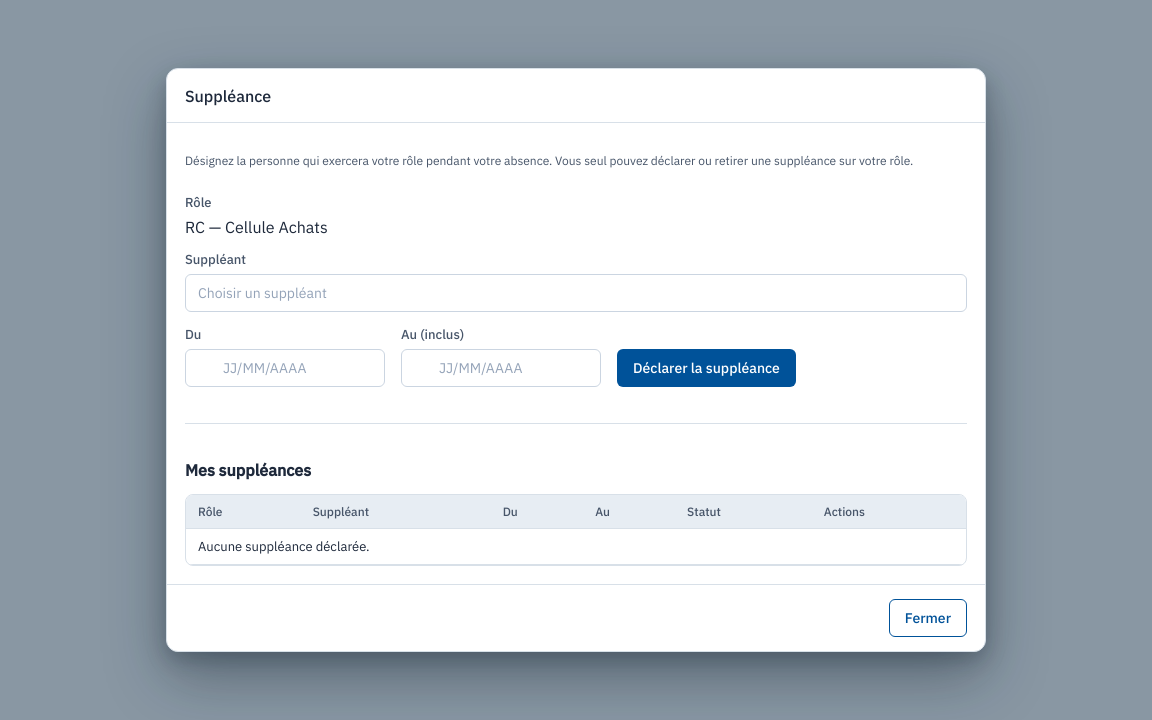
SuppleanceModal — déclaration › refuse une date de fin antérieure au début
The width and height of the screenshot is (1152, 720).
Click the button "Choisir un suppléant". click: [262, 293]
box: left=185, top=274, right=967, bottom=312
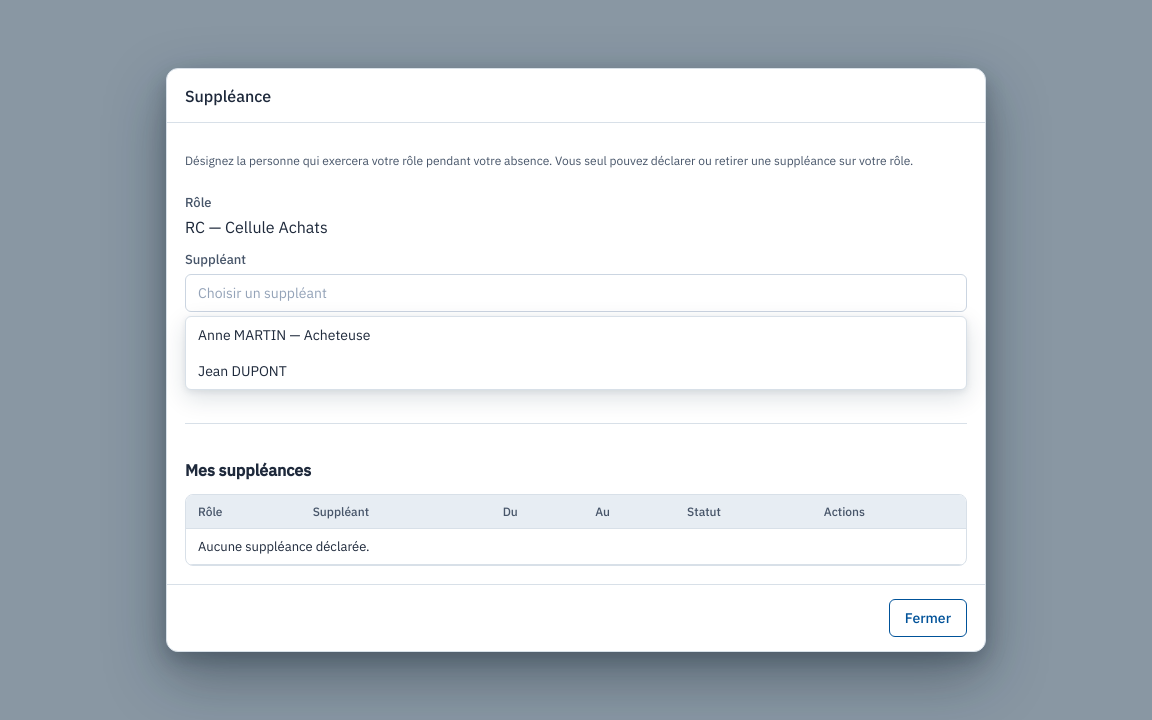
Click the text "Anne MARTIN — Acheteuse". click: [284, 335]
box: left=198, top=326, right=370, bottom=344
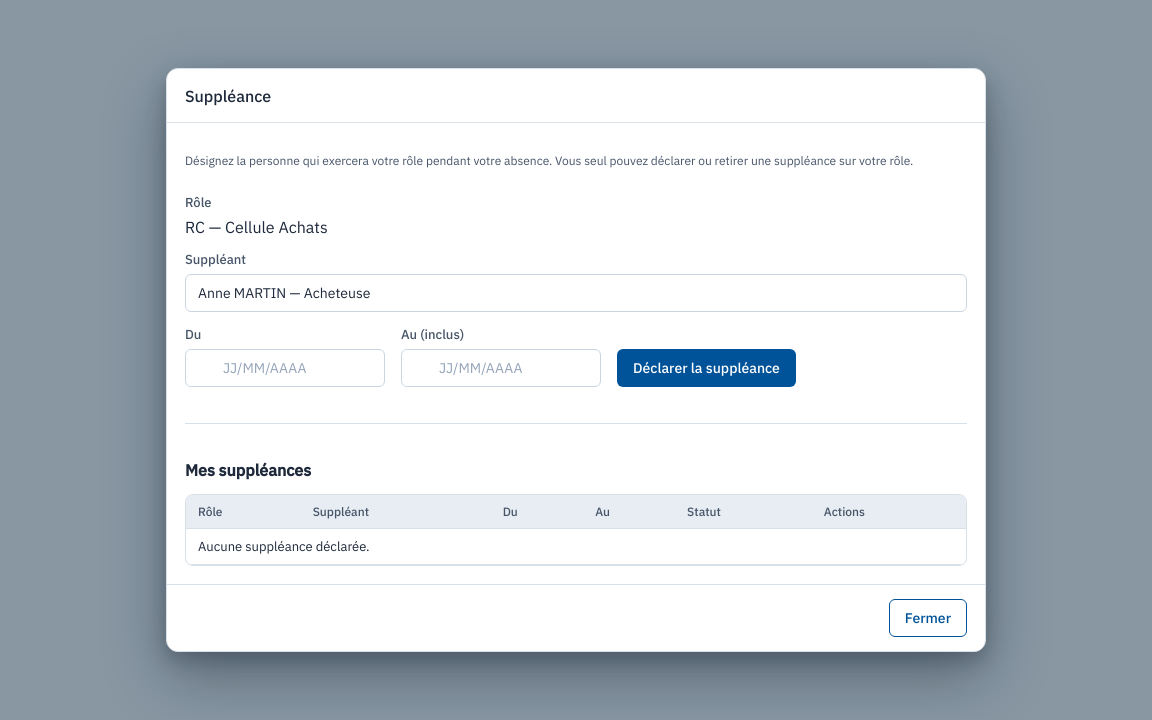
Type "25/09/2026" into the field named "Date de début". click: [296, 368]
box: left=221, top=358, right=372, bottom=378
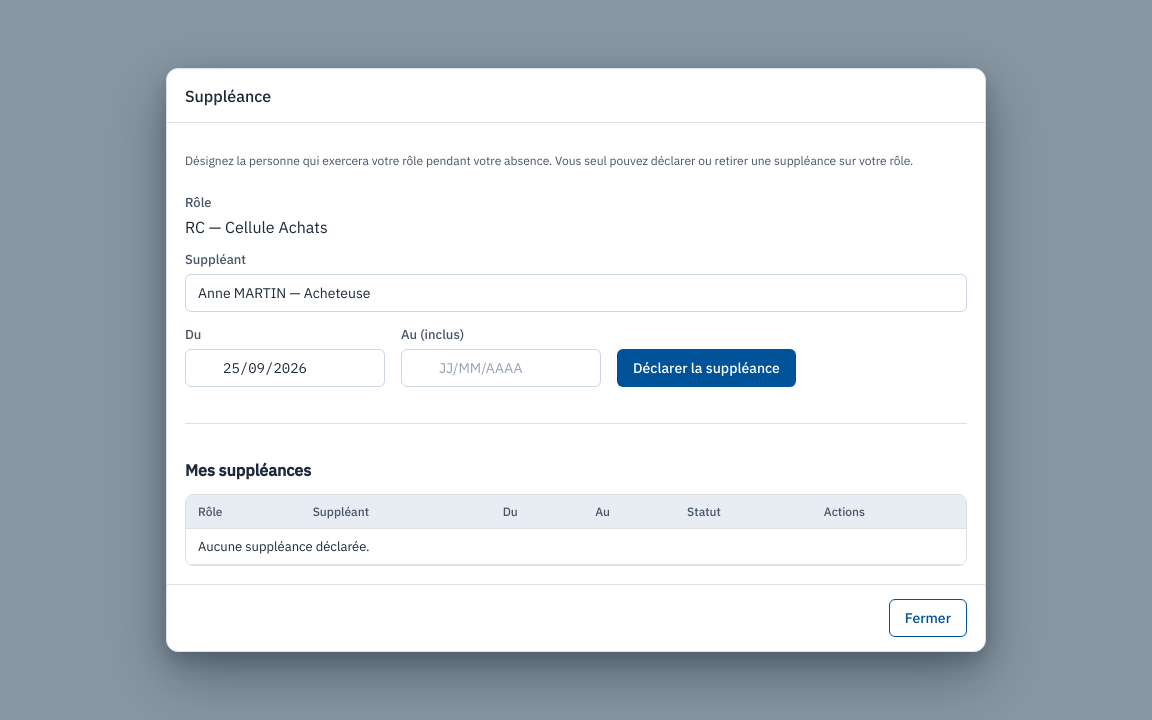
Type "22/09/2026" into the field named "Date de fin". click: [512, 368]
box: left=437, top=358, right=588, bottom=378
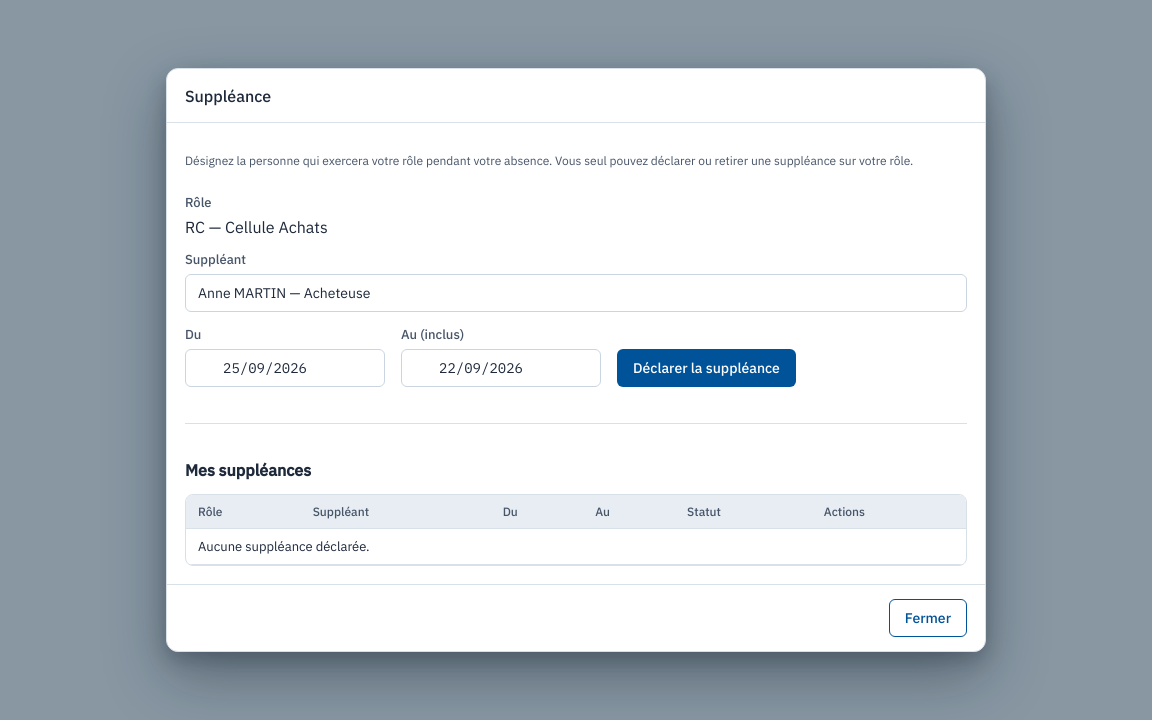
Click the button "Déclarer la suppléance". click: [706, 368]
box: left=617, top=349, right=796, bottom=387
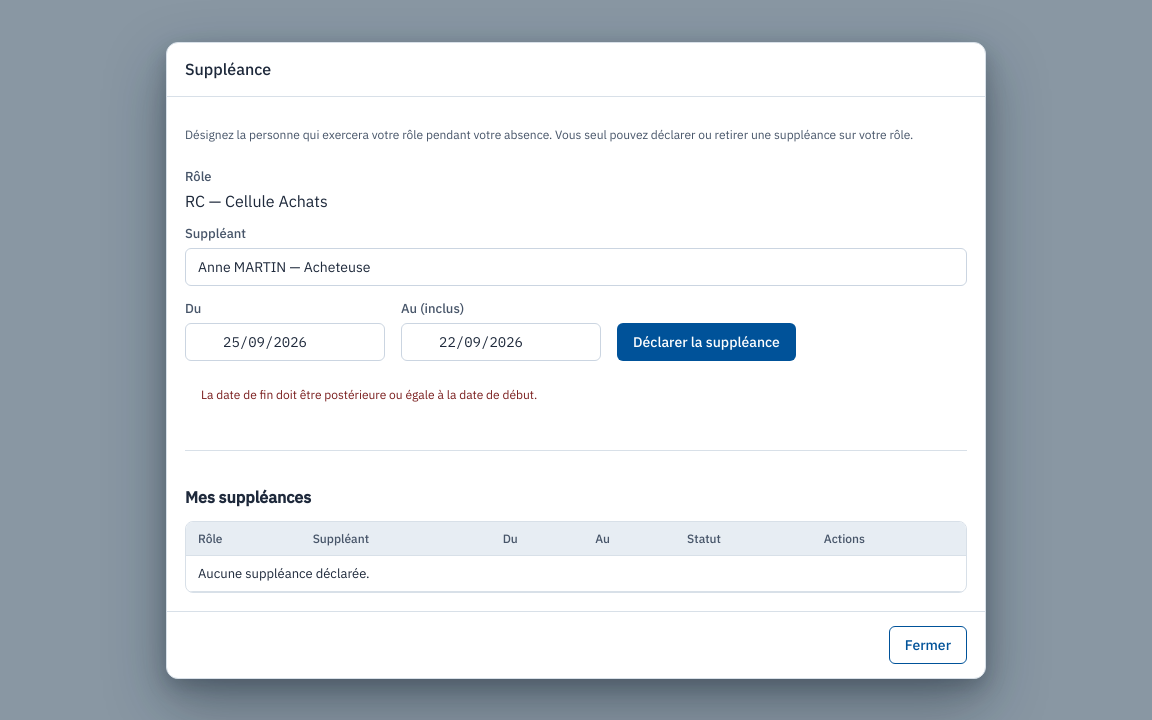
Expected: the text "La date de fin doit être postérieure ou égale à la date de début." is shown, left=185, top=386, right=537, bottom=402
